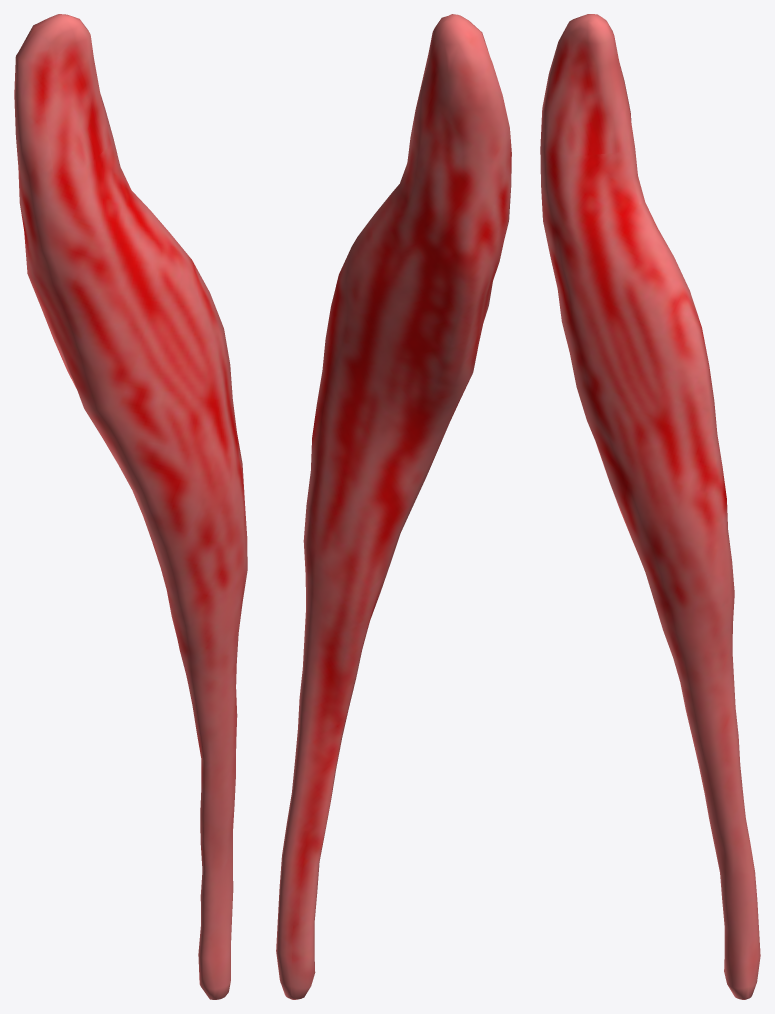
File: Extensor_Carpi_Radialis.glb
3 renders of one model, left to right at view 1: azimuth 30°, elevation 25°; view 2: azimuth 150°, elevation 25°; view 3: azimuth 330°, elevation 25°, orthographic. The views are drawn at different scales.
Visible parts, largest first — view 1: extensor_carpi_radialis1.003; view 2: extensor_carpi_radialis1.003; view 3: extensor_carpi_radialis1.003.
Part boxes in pixels (x1=…): extensor_carpi_radialis1.003: x1=14, y1=14, x2=247, y2=999; extensor_carpi_radialis1.003: x1=276, y1=14, x2=511, y2=999; extensor_carpi_radialis1.003: x1=540, y1=14, x2=760, y2=999.
Size of the model in its own units: 0.1154 by 0.5122 by 0.0532.
Materials: 1 (1 with a texture image).
